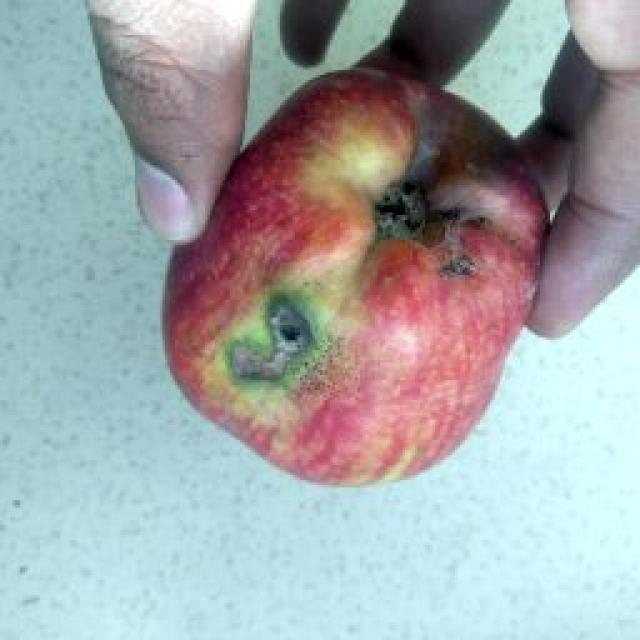Bad_Apple: (164, 68, 549, 484)
